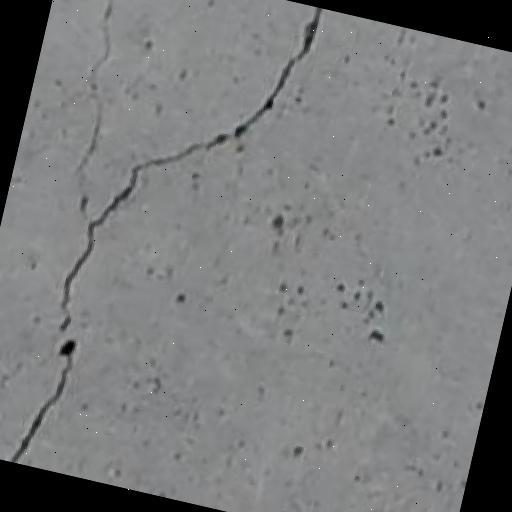spalling: (7, 15, 332, 460)
